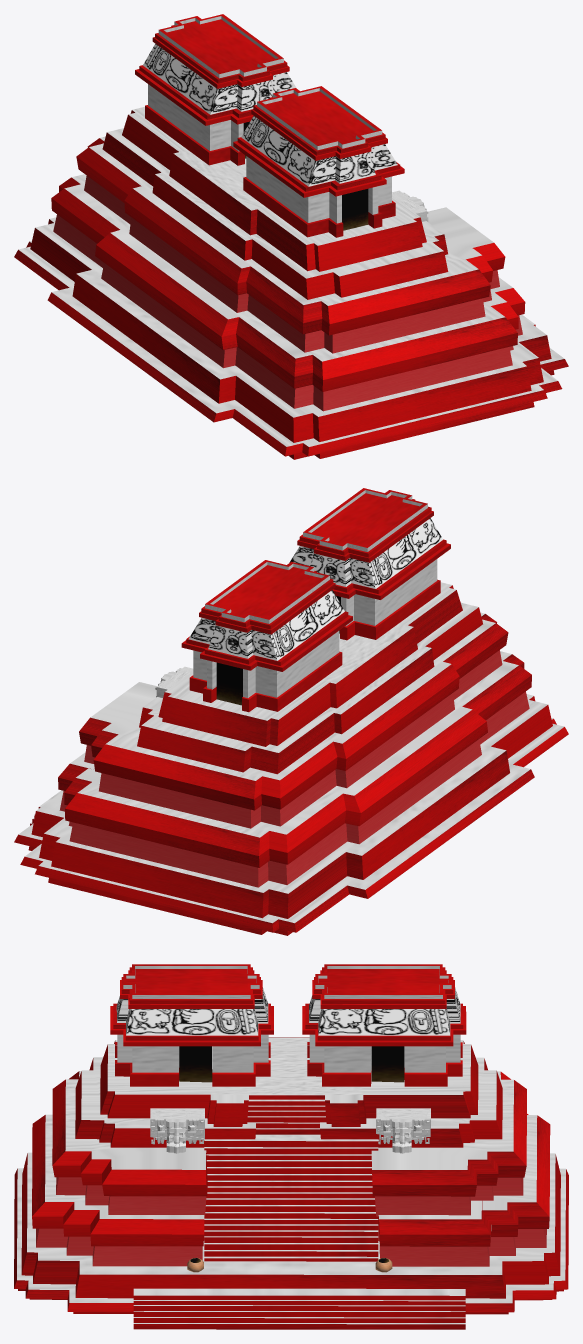
The model's file is compl_x.dae.
The picture shows the model from 3 angles, top to bottom: view 1: azimuth 30°, elevation 25°; view 2: azimuth 150°, elevation 25°; view 3: azimuth 270°, elevation 25°; orthographic projection. The views are drawn at different scales.
Parts seen in each view (by area): view 1: compl_x; view 2: compl_x; view 3: compl_x.
Part boxes in pixels (x1,y1,x2,y2): compl_x: [14, 14, 568, 459]; compl_x: [14, 488, 568, 935]; compl_x: [14, 964, 568, 1329].
Bounding box in the file's own units: 23.55 × 34.49 × 17.52.
